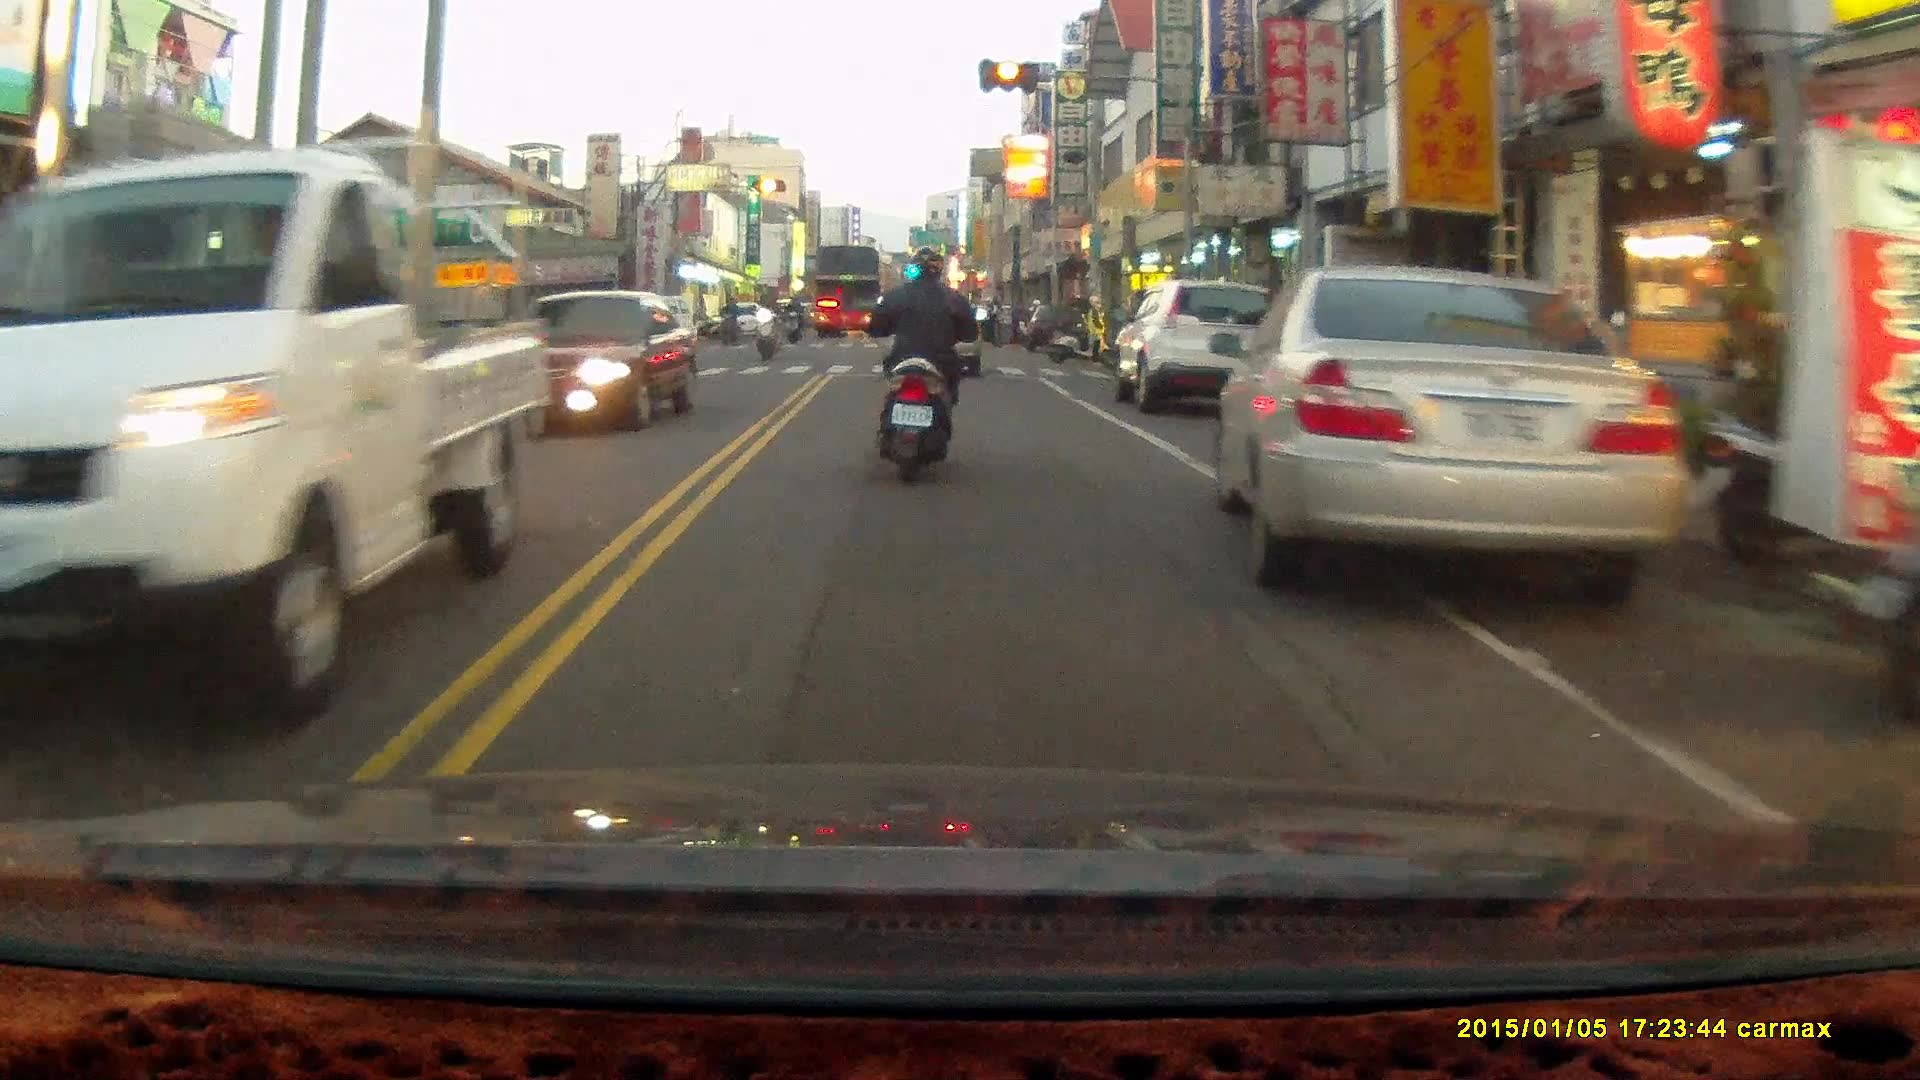pedestrian: (1083, 290, 1107, 366)
rider: (866, 246, 989, 484), (750, 284, 780, 358), (717, 292, 739, 346), (784, 291, 804, 347)
vehicle: (13, 146, 530, 740), (1210, 266, 1669, 614), (478, 290, 704, 442), (1116, 278, 1284, 412), (809, 246, 890, 337)
